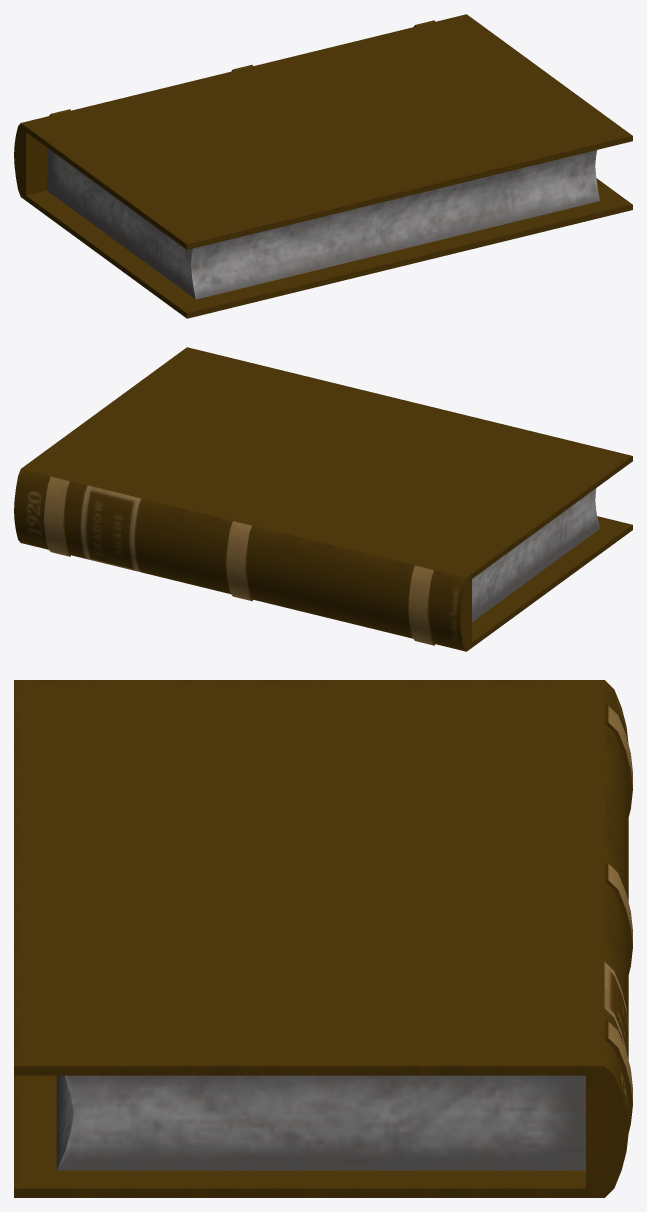
File: Book.fbx
The picture shows the model from 3 angles, top to bottom: view 1: azimuth 30°, elevation 25°; view 2: azimuth 150°, elevation 25°; view 3: azimuth 270°, elevation 25°; orthographic projection. The views are drawn at different scales.
Visible parts, largest first — view 1: pCube1; view 2: pCube1; view 3: pCube1.
Boxes of the visible parts, x1,y1,x2,y2 form: pCube1: [14, 14, 632, 318]; pCube1: [14, 347, 632, 651]; pCube1: [14, 680, 632, 1197].
Bounding box in the file's own units: 10.71 × 1.74 × 7.25.
